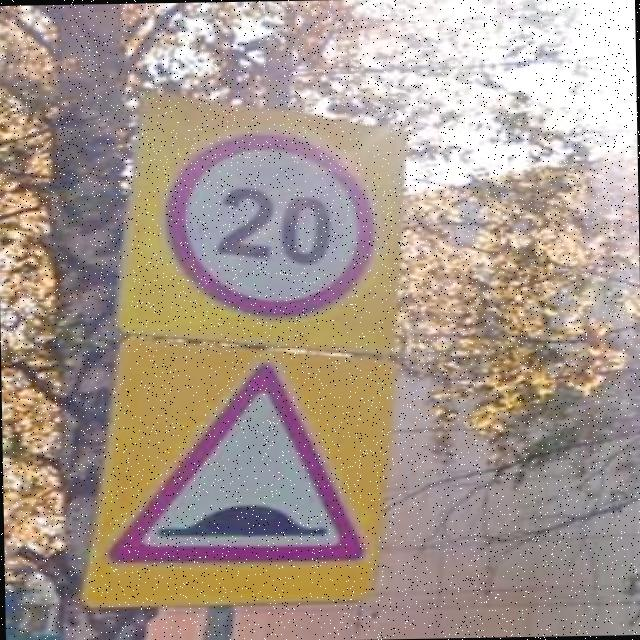Ograniczenie predkosci do 20: (160, 129, 380, 322)
